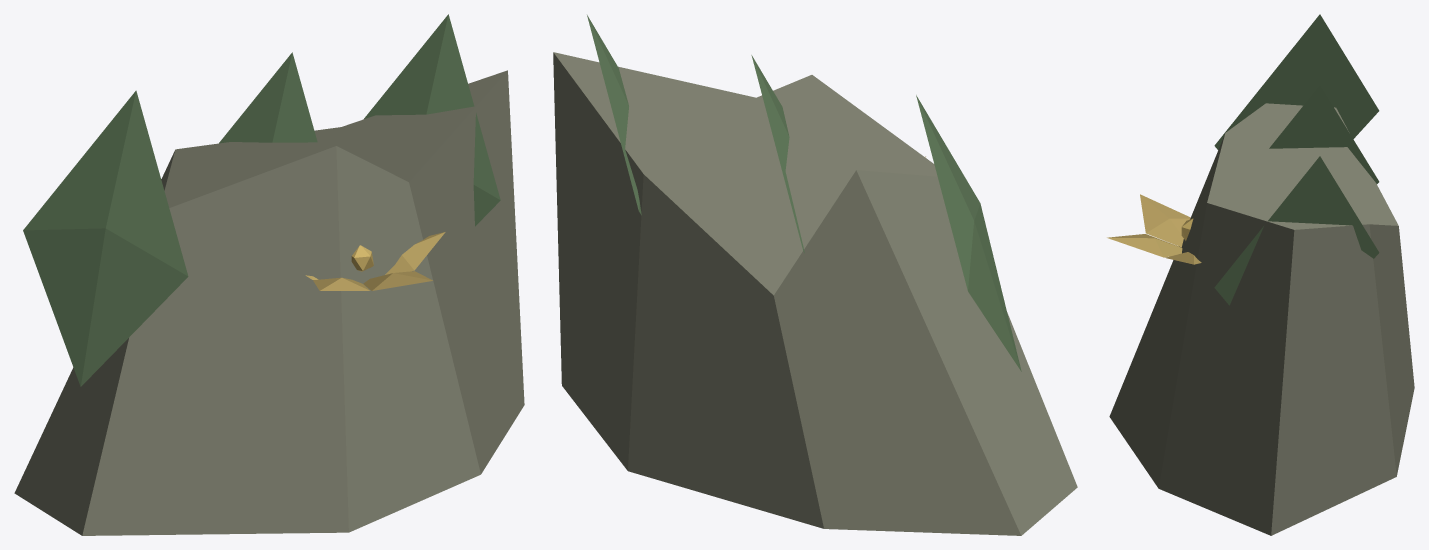
Rendered from map-boundaries-v5__champion_07.glb.
3 views of the same model, side by side, from view 1: azimuth 30°, elevation 25°; view 2: azimuth 150°, elevation 25°; view 3: azimuth 270°, elevation 25° (orthographic). The views are drawn at different scales.
Parts seen in each view (by area): view 1: champion_07; view 2: champion_07; view 3: champion_07.
Part boxes in pixels (bbox=[...]): champion_07: bbox=[14, 14, 524, 535]; champion_07: bbox=[553, 15, 1077, 535]; champion_07: bbox=[1107, 14, 1414, 535].
Size of the model in its own units: 1.21 by 0.94 by 0.7348.
